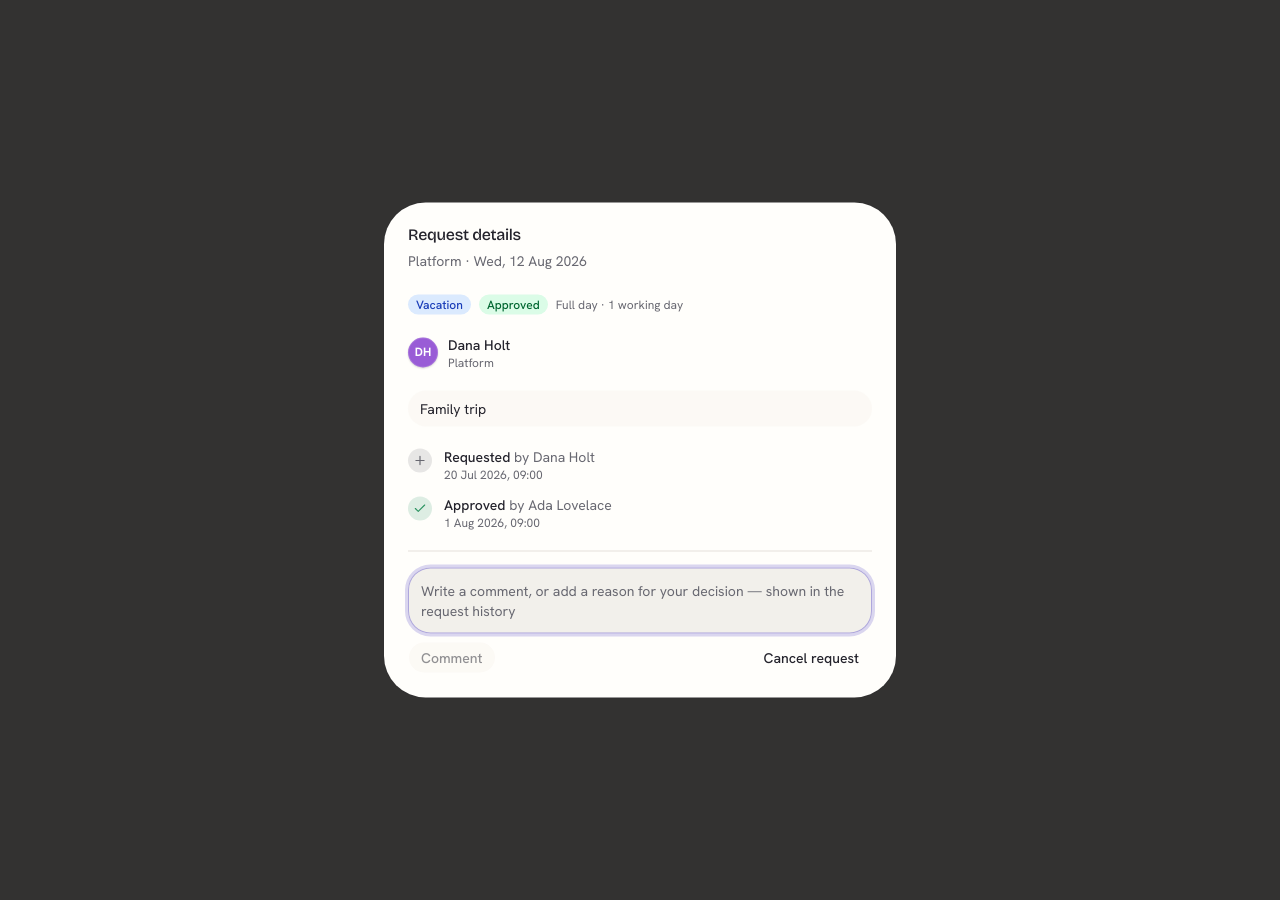
Test case: VacationDetailDialog › keeps the backend's message for a failure it has no translation for
Step 1. Click the button "Cancel request" → (811, 658), box [751,642,872,674]
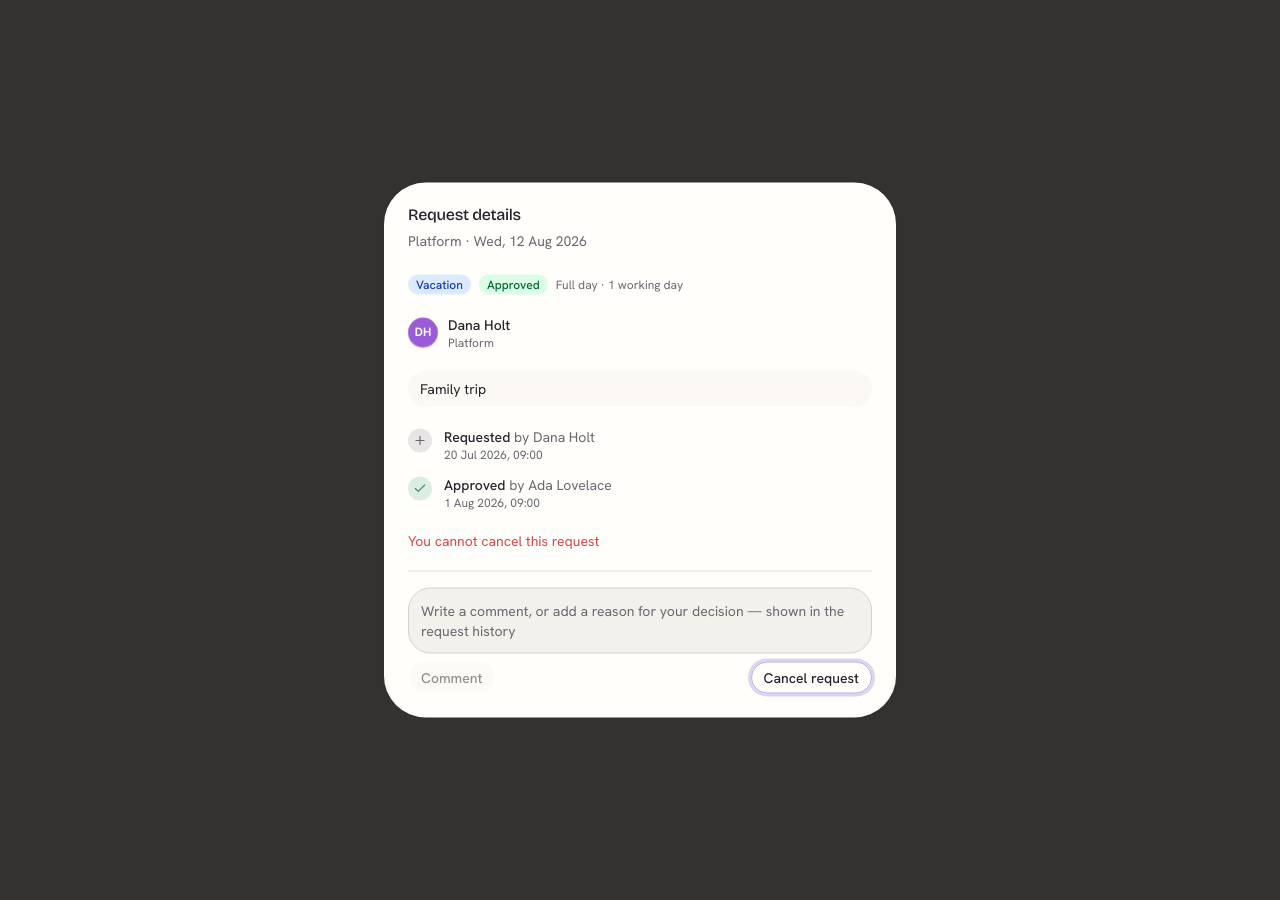
Now the message reads "You cannot cancel this request", box [408,532,599,550]
